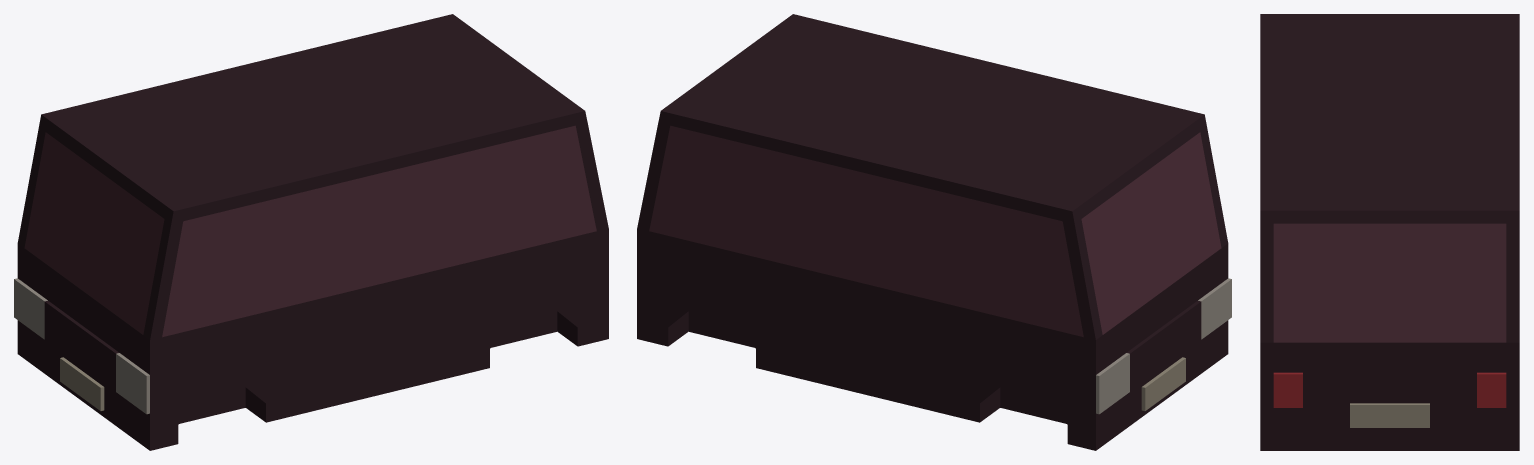
Rendered from MiniVan_Black.fbx.
3 views of the same model, side by side, from view 1: azimuth 30°, elevation 25°; view 2: azimuth 150°, elevation 25°; view 3: azimuth 270°, elevation 25° (orthographic). The views are drawn at different scales.
Parts seen in each view (by area): view 1: MiniVan_Black, MiniVan_Lights; view 2: MiniVan_Black, MiniVan_Lights; view 3: MiniVan_Black, MiniVan_Lights.
Part boxes in pixels (x1=…): MiniVan_Black: x1=17, y1=14, x2=608, y2=450; MiniVan_Lights: x1=14, y1=278, x2=149, y2=414; MiniVan_Black: x1=637, y1=14, x2=1228, y2=450; MiniVan_Lights: x1=1096, y1=278, x2=1231, y2=414; MiniVan_Black: x1=1260, y1=14, x2=1519, y2=450; MiniVan_Lights: x1=1273, y1=372, x2=1506, y2=407.
Size of the model in its own units: 3.96 by 1.9 by 1.95.
